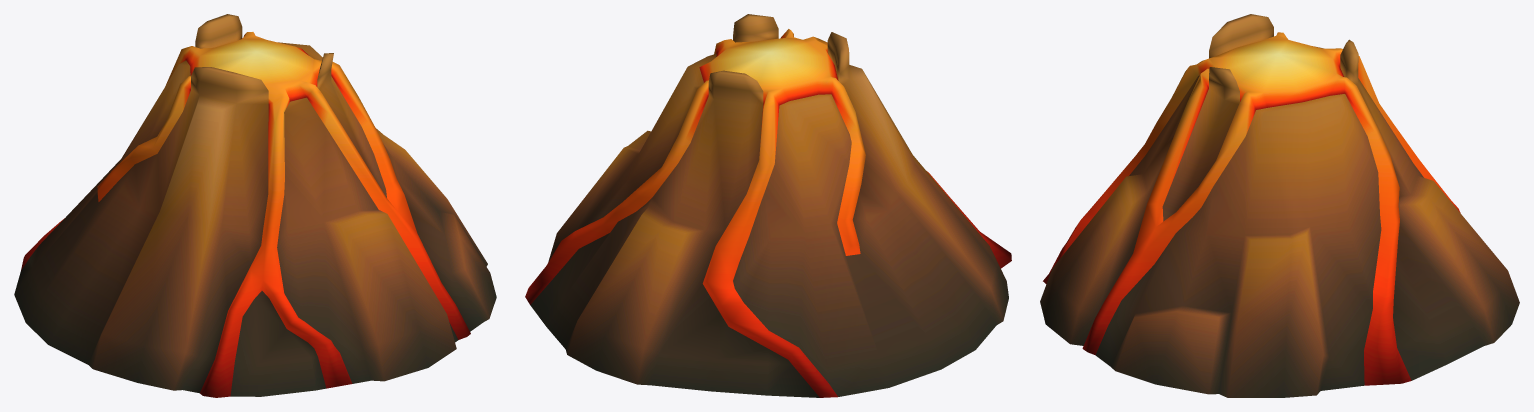
File: m_Volcano03_B.fbx
3 renders of one model, left to right at view 1: azimuth 30°, elevation 25°; view 2: azimuth 150°, elevation 25°; view 3: azimuth 270°, elevation 25°, orthographic.
Parts seen in each view (by area): view 1: m_Volcano03_B; view 2: m_Volcano03_B; view 3: m_Volcano03_B.
Part boxes in pixels (x1,y1,x2,y2): m_Volcano03_B: [14, 14, 496, 397]; m_Volcano03_B: [525, 14, 1011, 397]; m_Volcano03_B: [1040, 14, 1519, 397].
Size of the model in its own units: 2111 by 1235 by 2131.
